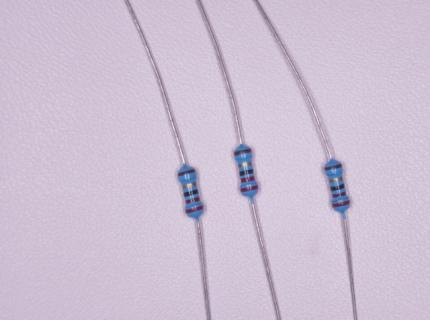Black band: (183, 189, 199, 197), (330, 183, 345, 191), (239, 169, 254, 176)
Brown band: (178, 169, 196, 177), (234, 149, 253, 156), (324, 164, 342, 171)
Gold band: (181, 182, 197, 189), (329, 176, 344, 183), (238, 161, 253, 168)
Red band: (185, 205, 204, 214), (332, 200, 351, 208), (240, 185, 259, 192), (185, 197, 201, 204), (332, 191, 347, 198), (241, 176, 256, 183)
